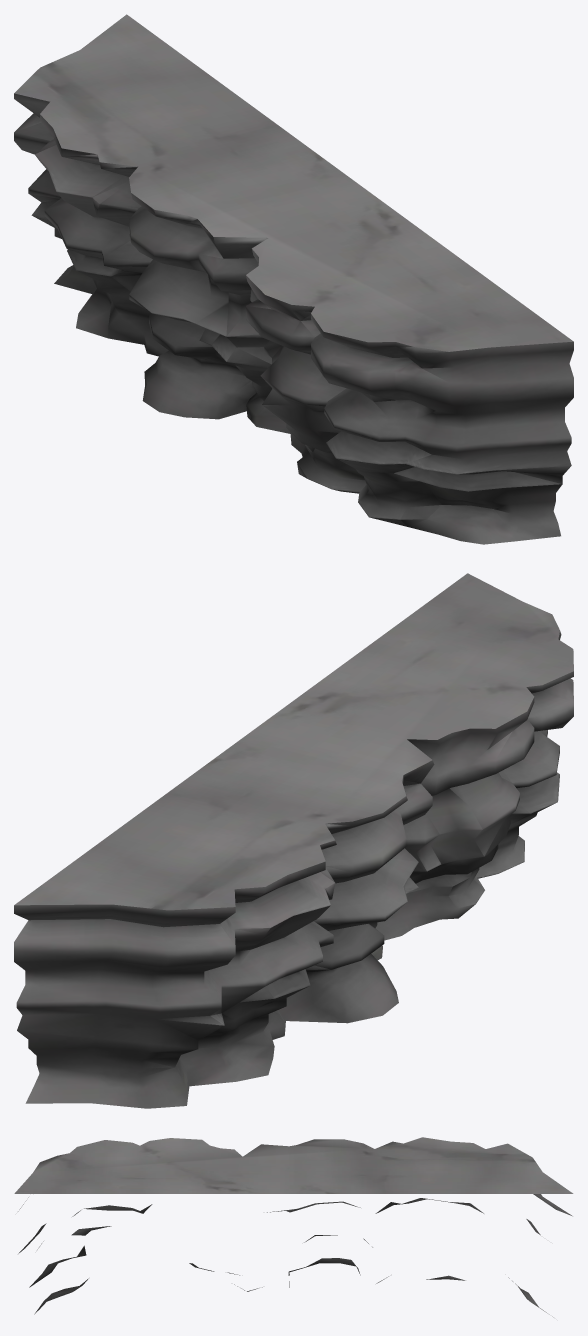
3 renders of one model, top to bottom at view 1: azimuth 30°, elevation 25°; view 2: azimuth 150°, elevation 25°; view 3: azimuth 270°, elevation 25°, orthographic. The views are drawn at different scales.
Parts seen in each view (by area): view 1: body0_model0_lod0_mesh0; view 2: body0_model0_lod0_mesh0; view 3: body0_model0_lod0_mesh0.
Part boxes in pixels (x1,y1,x2,y2): body0_model0_lod0_mesh0: [14, 14, 573, 544]; body0_model0_lod0_mesh0: [14, 573, 573, 1108]; body0_model0_lod0_mesh0: [14, 1137, 573, 1317].
Bounding box in the file's own units: 316 × 324 × 1277.
1 material, 1 textured.
